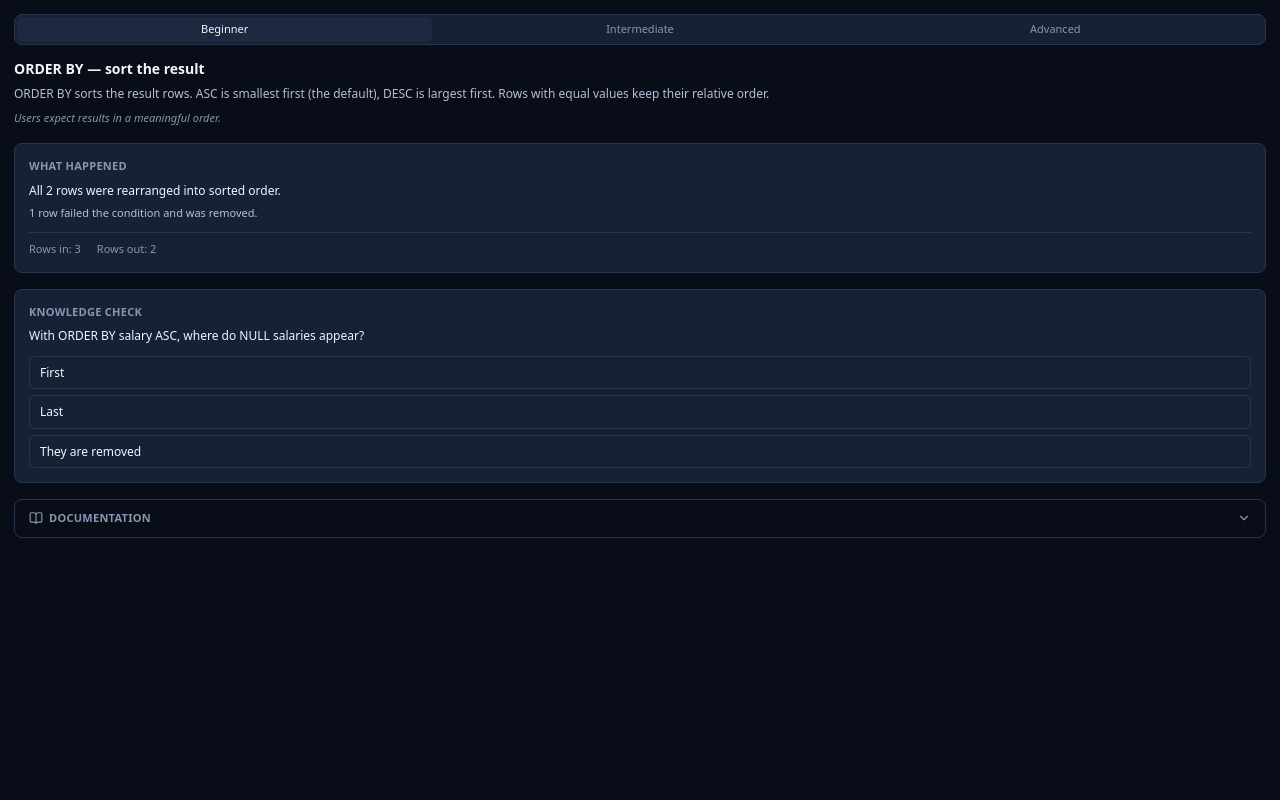
Test: ExplanationPanel › offers trusted sqlite.org documentation for the stage
The width and height of the screenshot is (1280, 800).
Click the button "Documentation" at (100,518), box x1=15 y1=500 x2=1265 y2=536
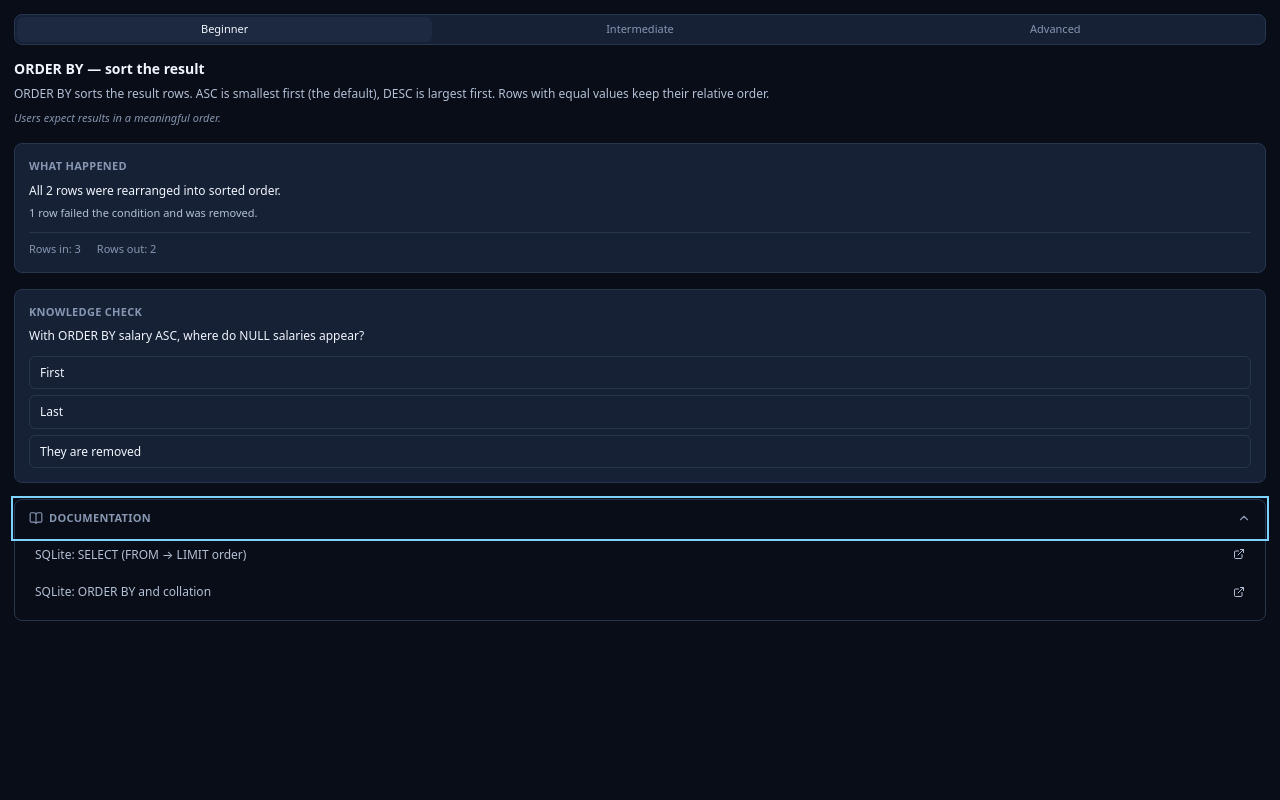
expect the link "SQLite: SELECT (FROM → LIMIT order)" is shown: met, box x1=35 y1=546 x2=1245 y2=562
